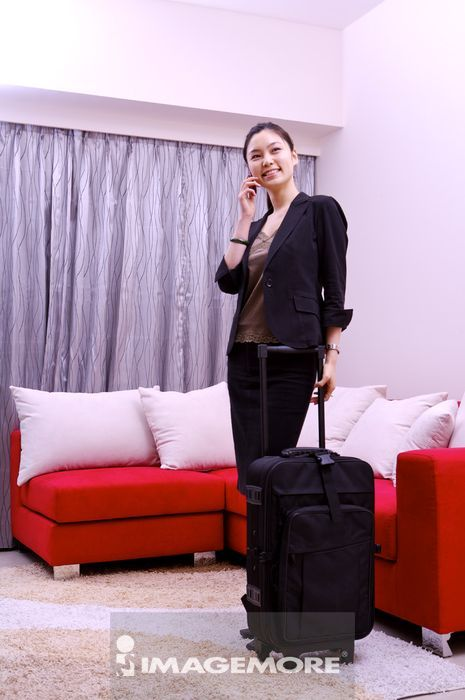talk: (238, 140, 288, 222)
